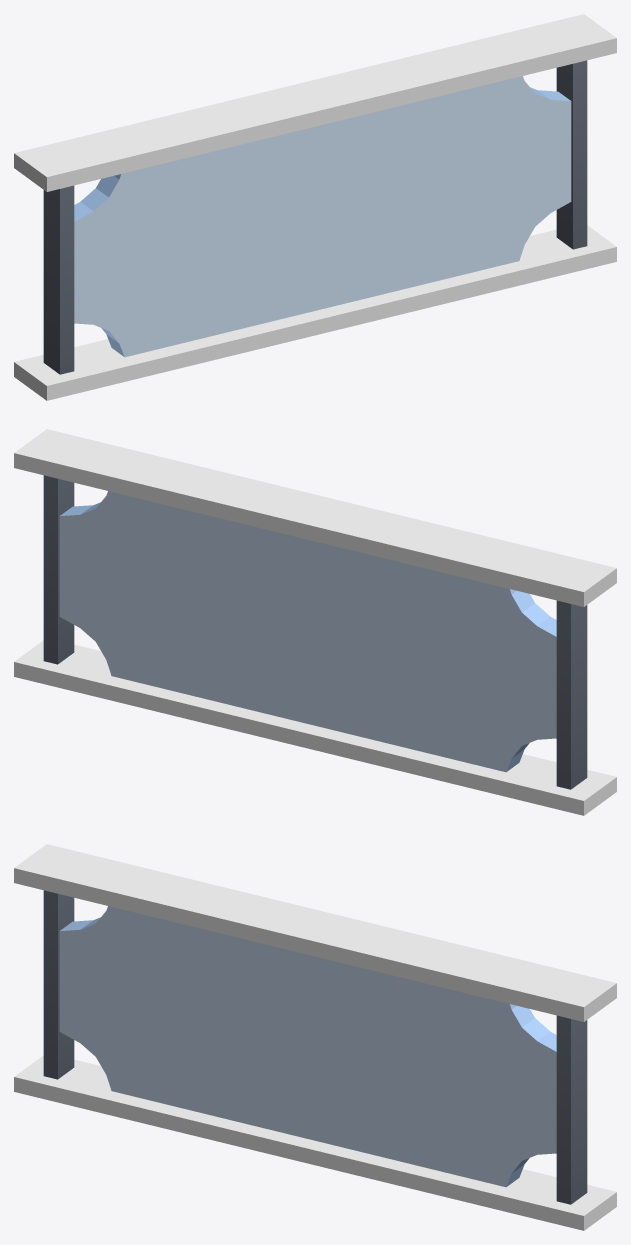
File: Glass_Railing_3.fbx
3 renders of one model, top to bottom at view 1: azimuth 30°, elevation 25°; view 2: azimuth 150°, elevation 25°; view 3: azimuth 330°, elevation 25°, orthographic.
Visible parts, largest first — view 1: Cube.081; view 2: Cube.081; view 3: Cube.081.
Part boxes in pixels (box(x1,y1,x2,y2)): Cube.081: box(14, 14, 616, 400); Cube.081: box(14, 429, 616, 815); Cube.081: box(14, 844, 616, 1230).
Size of the model in its own units: 200 by 75 by 20.
